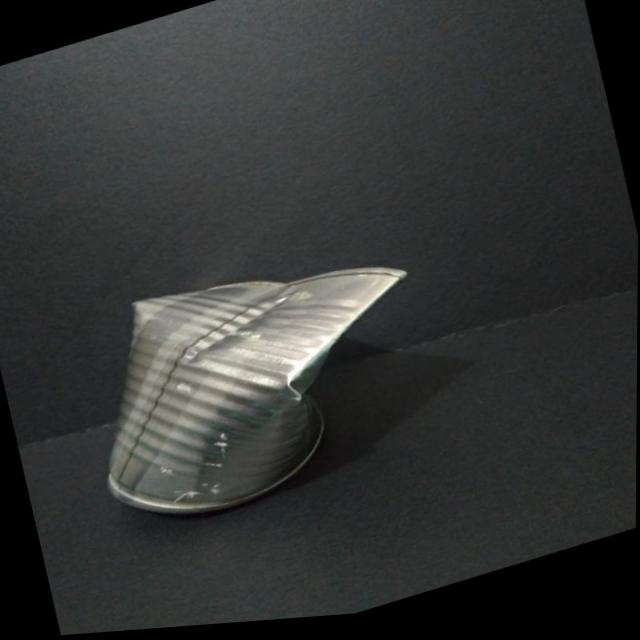metal: (109, 267, 405, 512)
